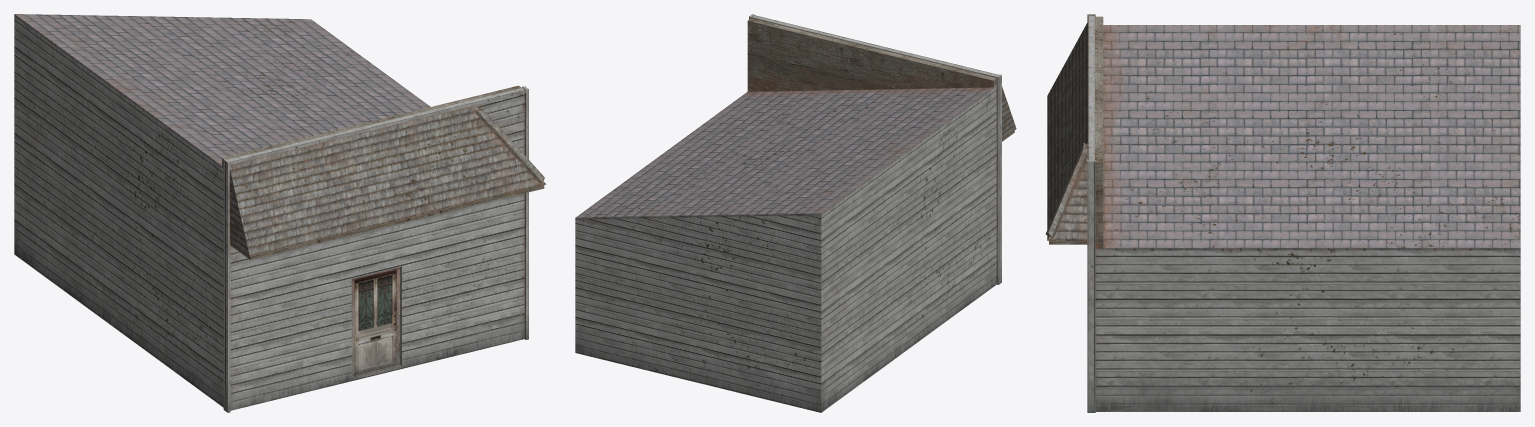
Rendered from wood_house.glb.
3 views of the same model, side by side, from view 1: azimuth 30°, elevation 25°; view 2: azimuth 150°, elevation 25°; view 3: azimuth 270°, elevation 25° (orthographic). The views are drawn at different scales.
Parts seen in each view (by area): view 1: House_04.001; view 2: House_04.001; view 3: House_04.001.
Boxes of the visible parts, x1=… form: House_04.001: x1=14, y1=14, x2=546, y2=412; House_04.001: x1=575, y1=14, x2=1016, y2=412; House_04.001: x1=1045, y1=14, x2=1520, y2=412.
Bounding box in the file's own units: 690 × 548 × 939.
1 material, 1 textured.
